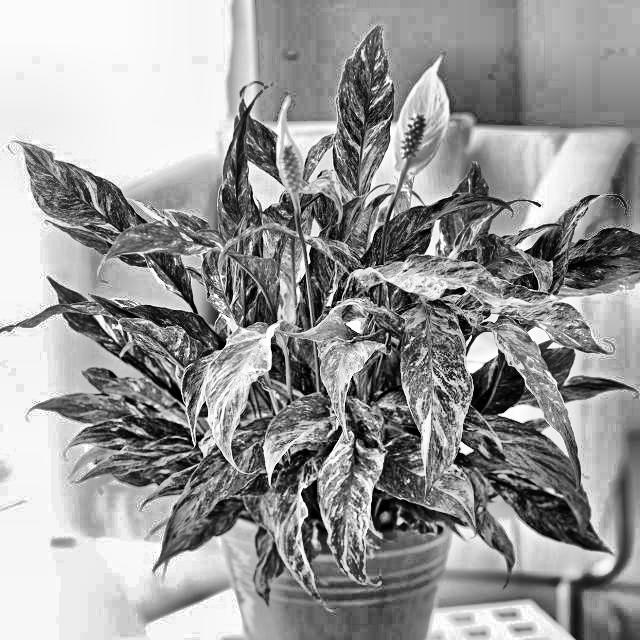plants: (28, 63, 630, 633)
